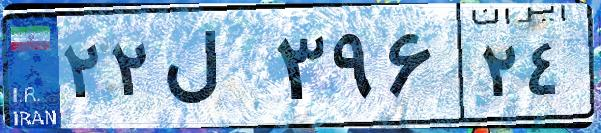2: (57, 26, 110, 100), (475, 38, 525, 113), (110, 28, 158, 98)
3: (270, 28, 330, 110)
4: (525, 38, 570, 115)
6: (385, 28, 445, 110)
9: (330, 28, 385, 110)
ل: (158, 20, 270, 120)
